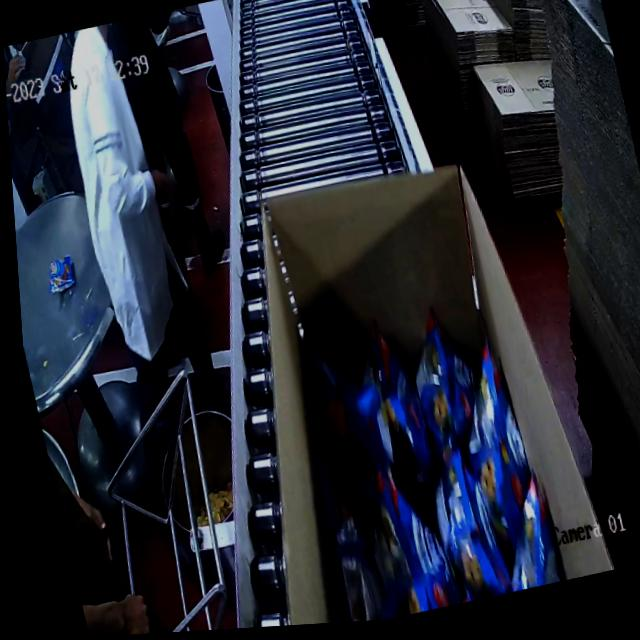PAPRIKA: (288, 292, 577, 624)
